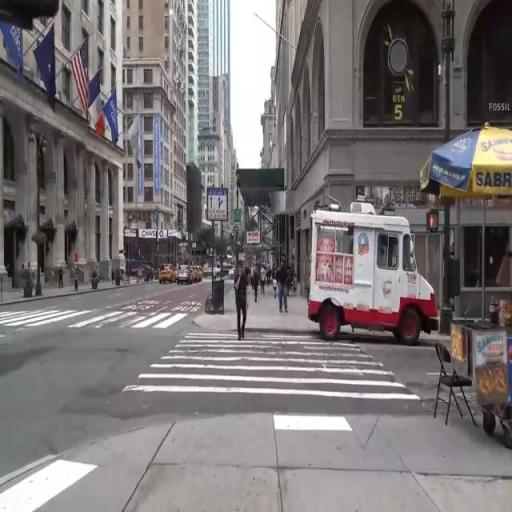person: (235, 260, 246, 347), (280, 258, 291, 316), (58, 267, 66, 290), (261, 264, 266, 296), (256, 268, 260, 304), (274, 278, 278, 300), (112, 267, 116, 288), (269, 260, 272, 285)
